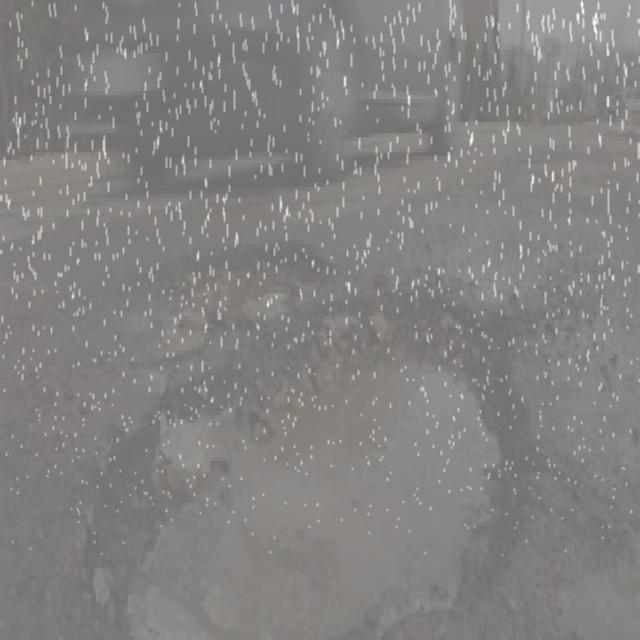Pothole: (72, 223, 612, 640)
